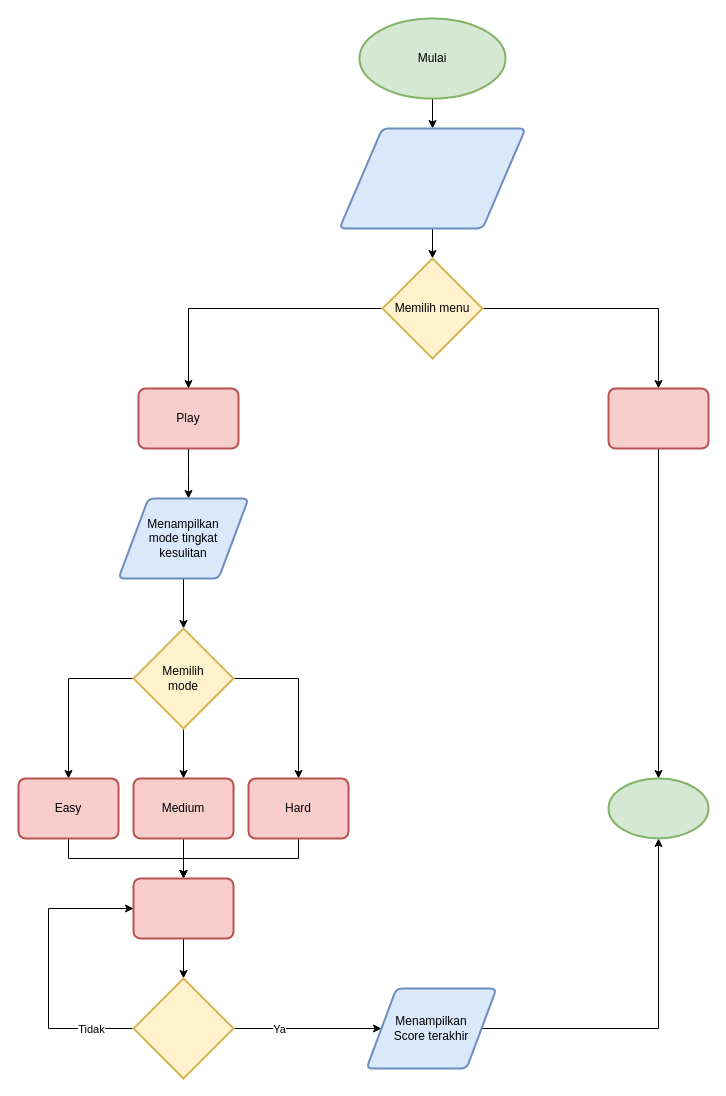
The diagram is 726 pixels wide and 1096 high, and some of its shapes have lost their labels. The shapes that lost their labels are listed below. From the top down, each one's centre as x and y in pixels, then its label:
At point (432, 178): "Menampilkan Menu: 1. Play 2. Exit".
At point (658, 418): "Exit".
At point (658, 808): "Program Selesai".
At point (183, 908): "Memainkan Game flip square".
At point (183, 1028): "Kalah?".
